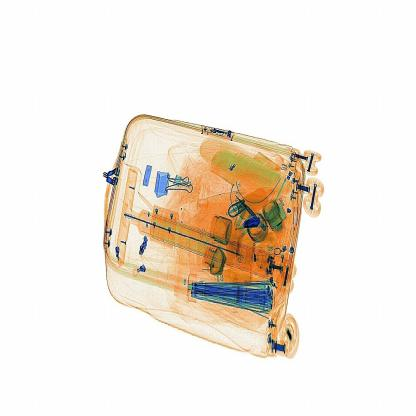knife: (242, 218, 264, 231)
